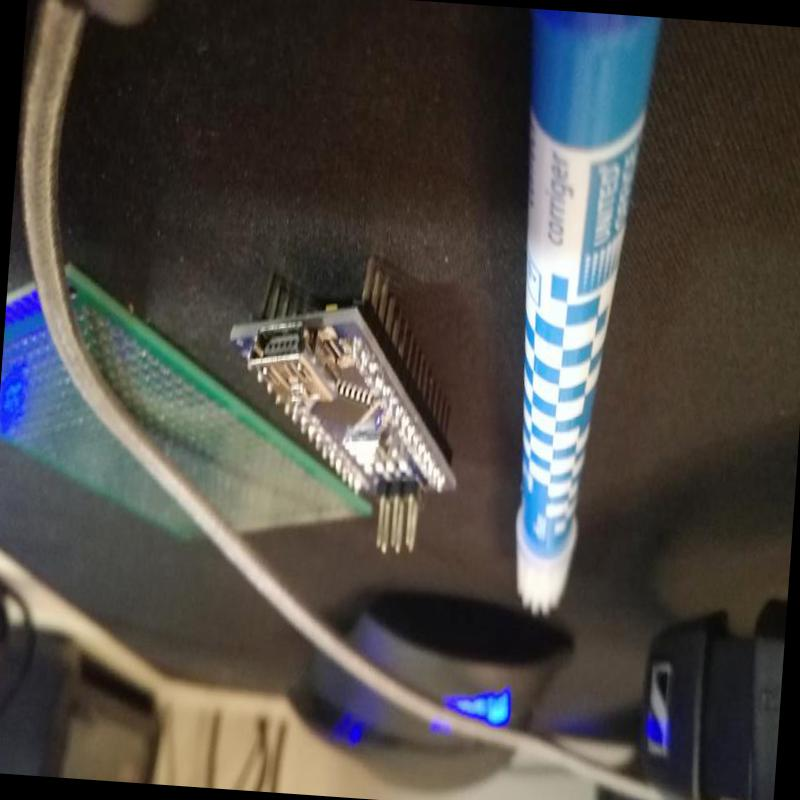Arduino_Nano: (214, 221, 477, 573)
